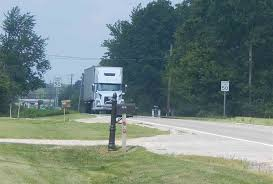speedLimit50: (219, 78, 230, 92)
